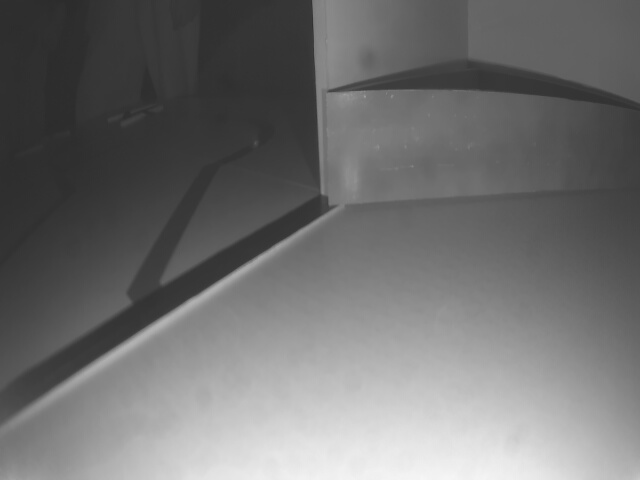Green: (323, 91, 640, 207)
